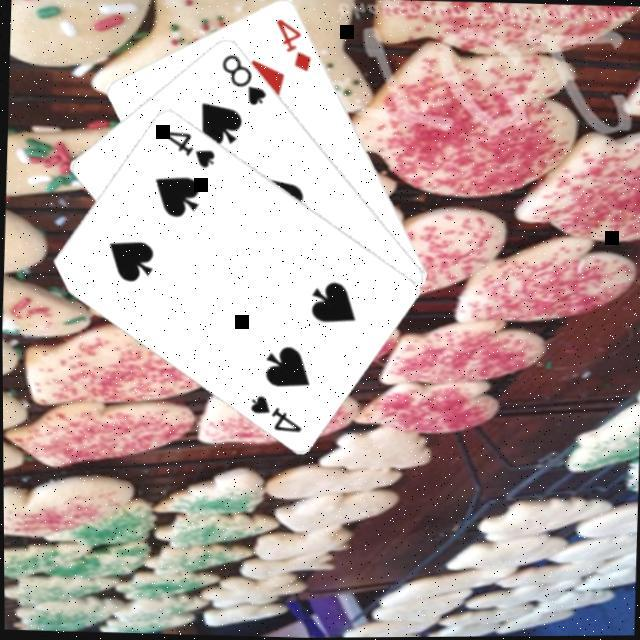4D: (270, 16, 314, 75)
4S: (156, 128, 217, 173), (243, 392, 304, 437)
8S: (215, 51, 269, 110)
